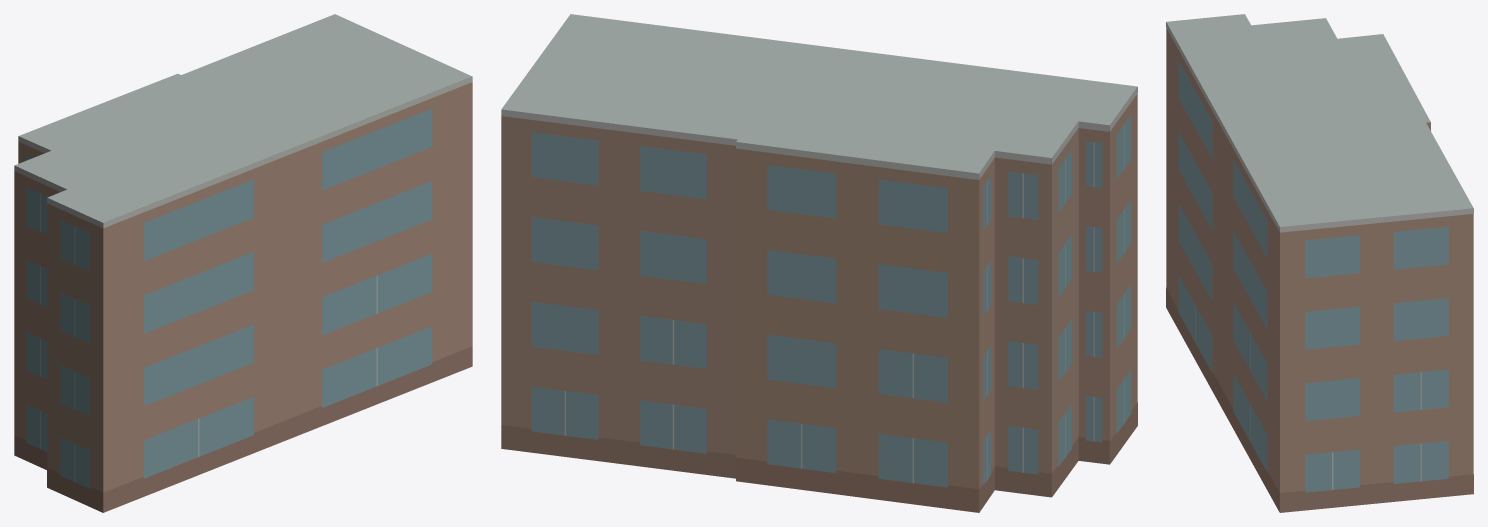
File: survey-upis-32720026.glb
The picture shows the model from 3 angles, left to right: view 1: azimuth 30°, elevation 25°; view 2: azimuth 150°, elevation 25°; view 3: azimuth 270°, elevation 25°; orthographic projection. The views are drawn at different scales.
Parts seen in each view (by area): view 1: survey-upis-32720026.tmp; view 2: survey-upis-32720026.tmp; view 3: survey-upis-32720026.tmp.
Part boxes in pixels (x1,y1,x2,y2): survey-upis-32720026.tmp: (14,14,472,512); survey-upis-32720026.tmp: (501,14,1137,512); survey-upis-32720026.tmp: (1166,14,1473,512).
Size of the model in its own units: 20.22 by 12.64 by 12.34.
